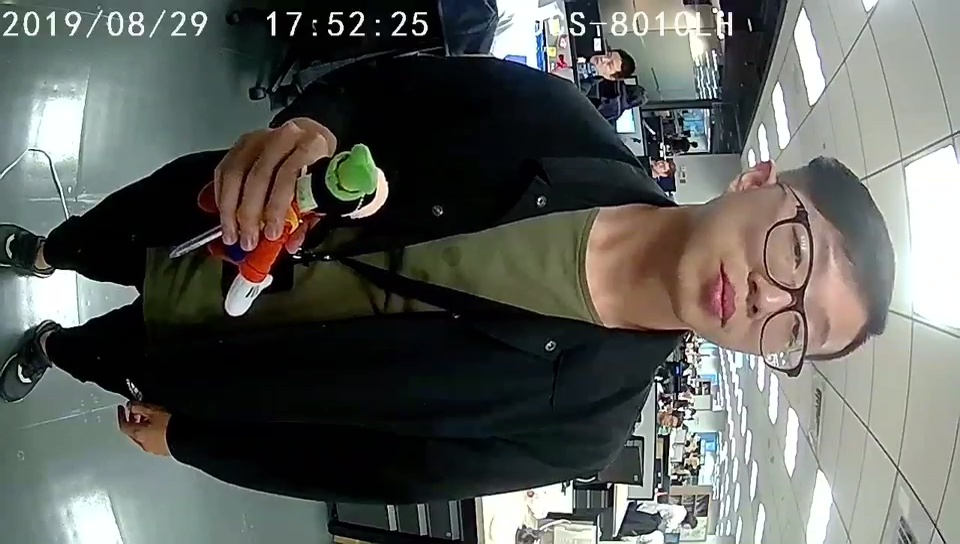goofy: (199, 142, 391, 316)
